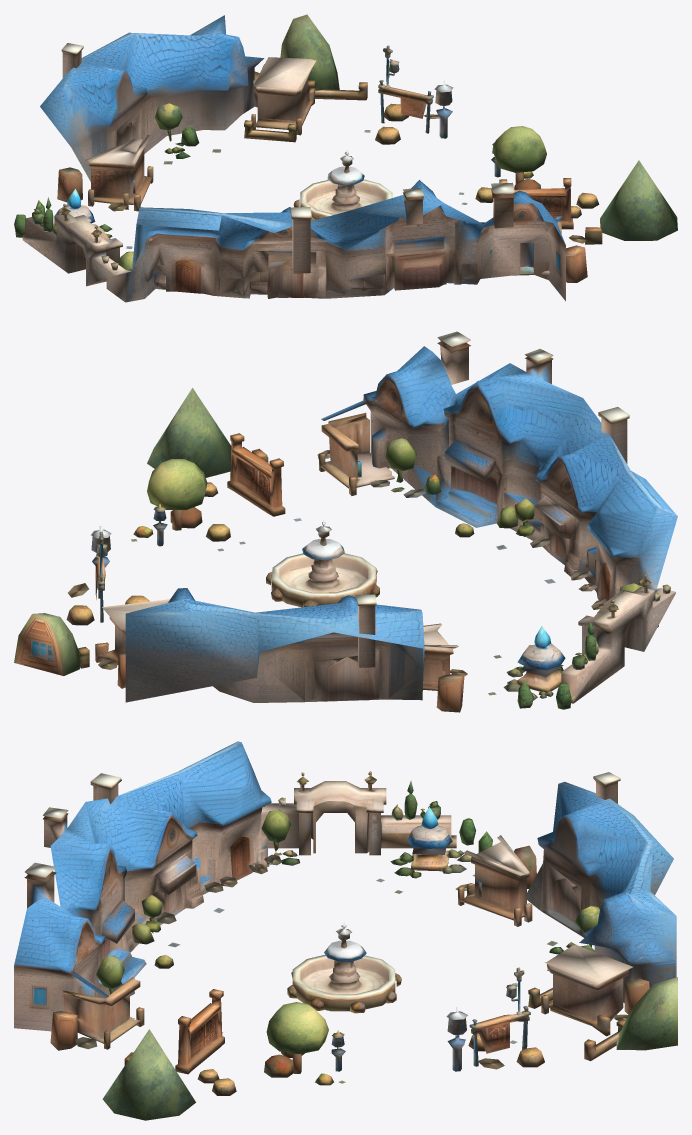
The model's file is town.glb.
The picture shows the model from 3 angles, top to bottom: view 1: azimuth 30°, elevation 25°; view 2: azimuth 150°, elevation 25°; view 3: azimuth 270°, elevation 25°; orthographic projection. The views are drawn at different scales.
Parts seen in each view (by area): view 1: tripo_node_d3e307ec; view 2: tripo_node_d3e307ec; view 3: tripo_node_d3e307ec.
Boxes of the visible parts, x1=… form: tripo_node_d3e307ec: x1=14, y1=14, x2=677, y2=302; tripo_node_d3e307ec: x1=14, y1=331, x2=677, y2=712; tripo_node_d3e307ec: x1=14, y1=741, x2=677, y2=1120.
Size of the model in its own units: 0.998 by 0.2364 by 0.9961.
Materials: 1 (1 with a texture image).
